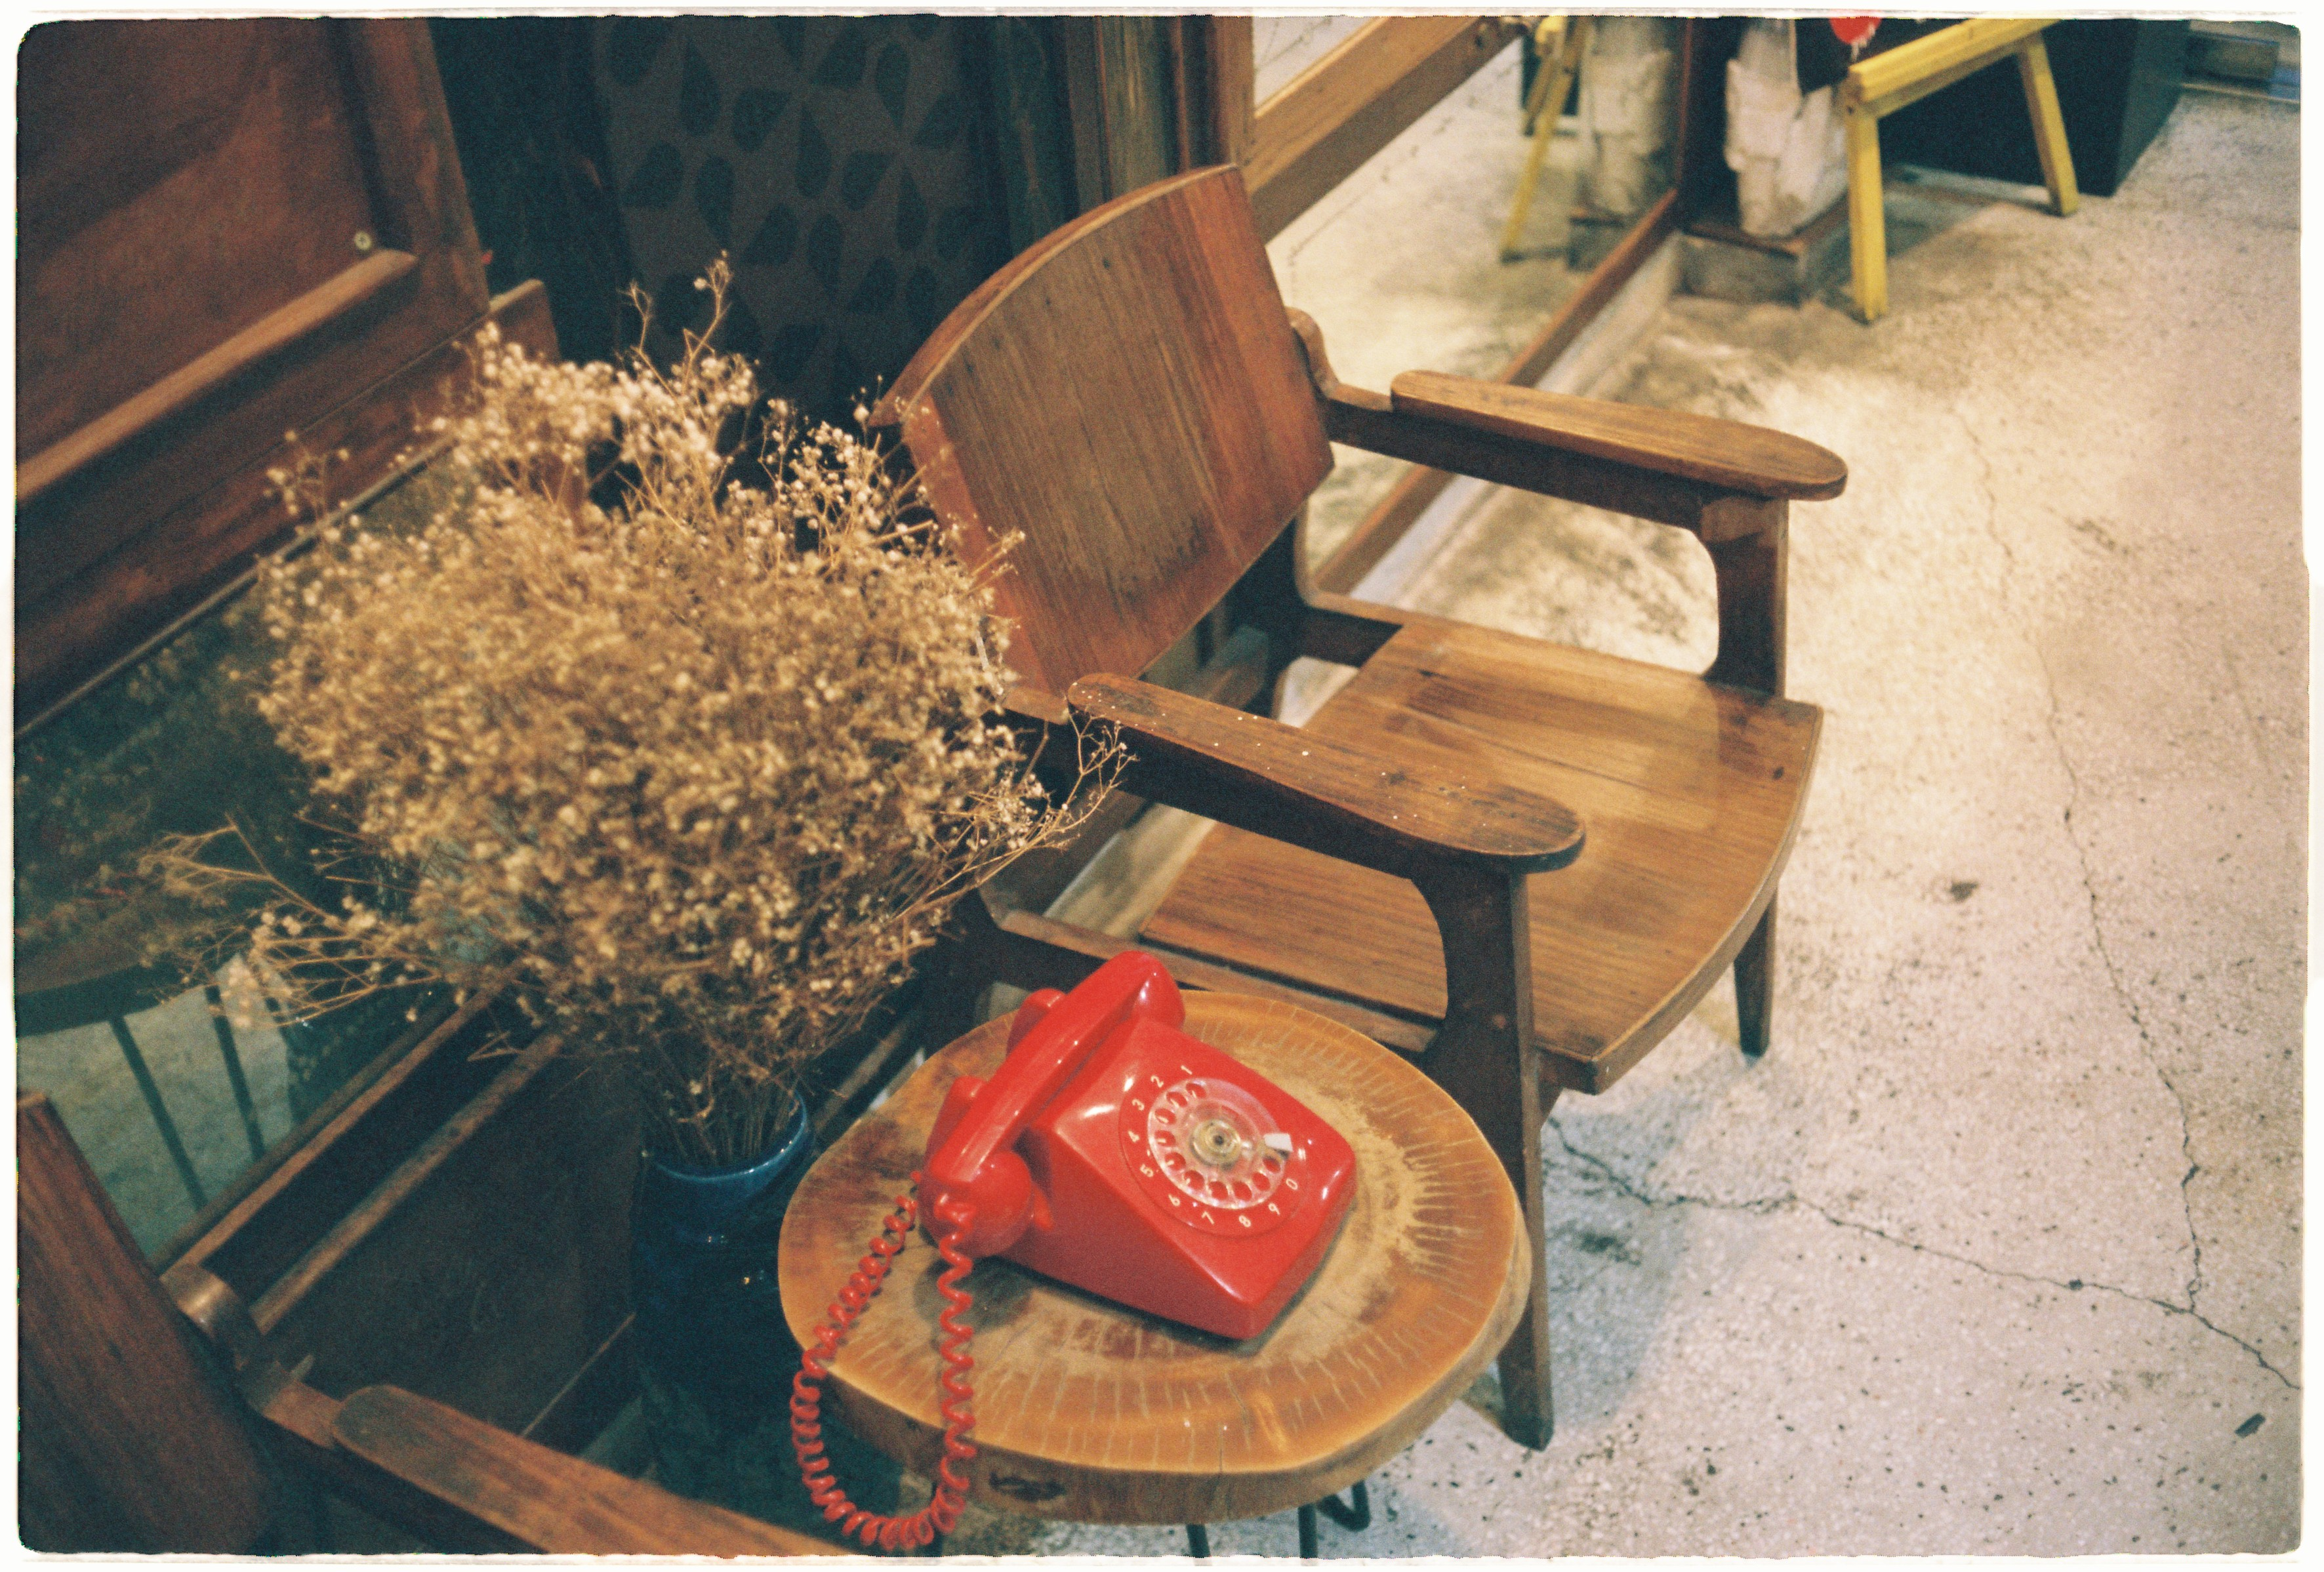chair: (838, 182, 1826, 1367)
phone: (895, 949, 1387, 1367)
tree: (289, 302, 912, 1249)
